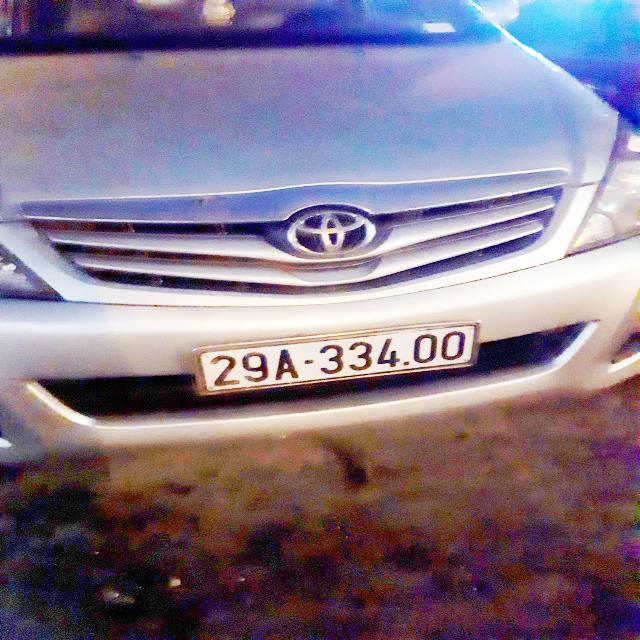license_plate: (183, 314, 491, 406)
